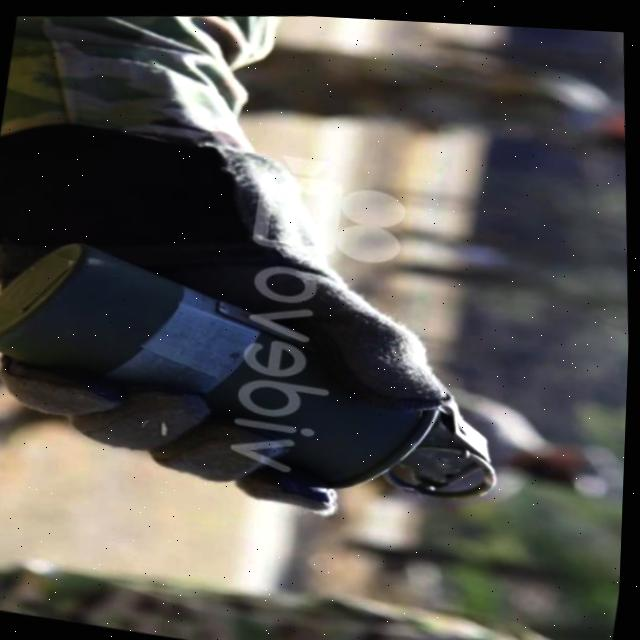grenade: (0, 203, 539, 546)
